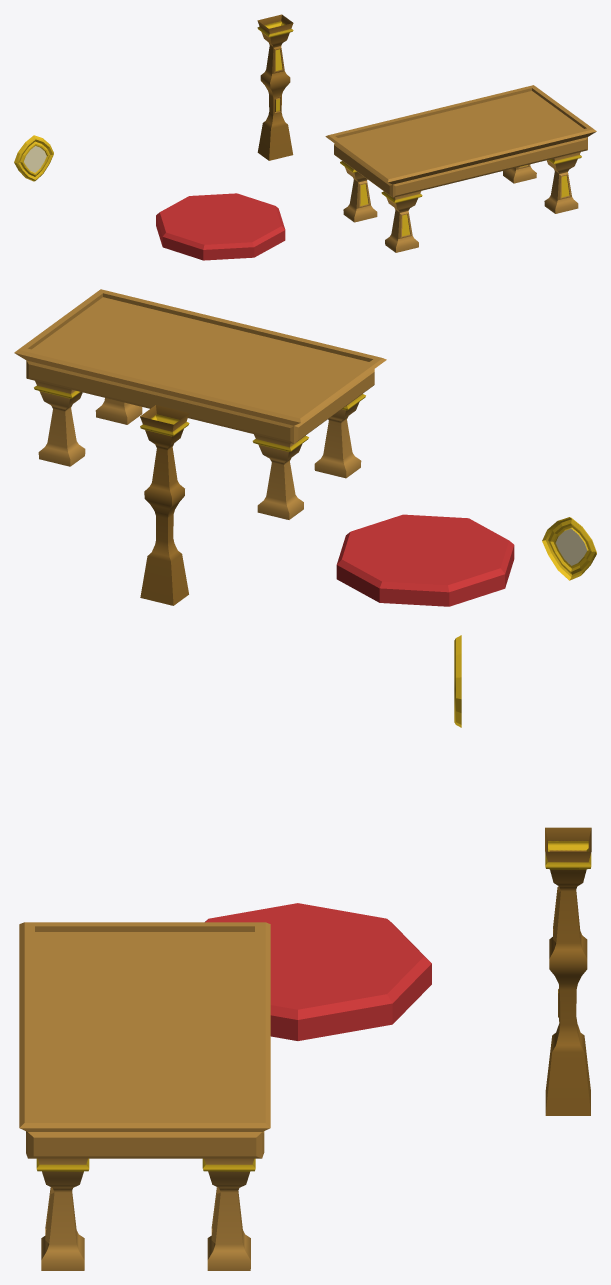
File: Cathedral_DeskAssets.fbx
3 renders of one model, top to bottom at view 1: azimuth 30°, elevation 25°; view 2: azimuth 150°, elevation 25°; view 3: azimuth 270°, elevation 25°, orthographic. The views are drawn at different scales.
Parts seen in each view (by area): view 1: polySurface11, pCylinder7, pCube21, pCylinder44; view 2: polySurface11, pCylinder7, pCube21, pCylinder44; view 3: polySurface11, pCylinder7, pCube21.
Boxes of the visible parts, bbox=[...] form: polySurface11: bbox=[325, 85, 596, 252]; pCylinder7: bbox=[156, 193, 285, 260]; pCube21: bbox=[257, 14, 293, 160]; pCylinder44: bbox=[14, 135, 53, 181]; polySurface11: bbox=[14, 289, 386, 519]; pCylinder7: bbox=[336, 514, 514, 606]; pCube21: bbox=[140, 405, 189, 605]; pCylinder44: bbox=[542, 517, 596, 580]; polySurface11: bbox=[19, 922, 270, 1270]; pCylinder7: bbox=[205, 903, 431, 1040]; pCube21: bbox=[545, 827, 591, 1115].
Size of the model in its own units: 87.96 by 23.51 by 46.12.
